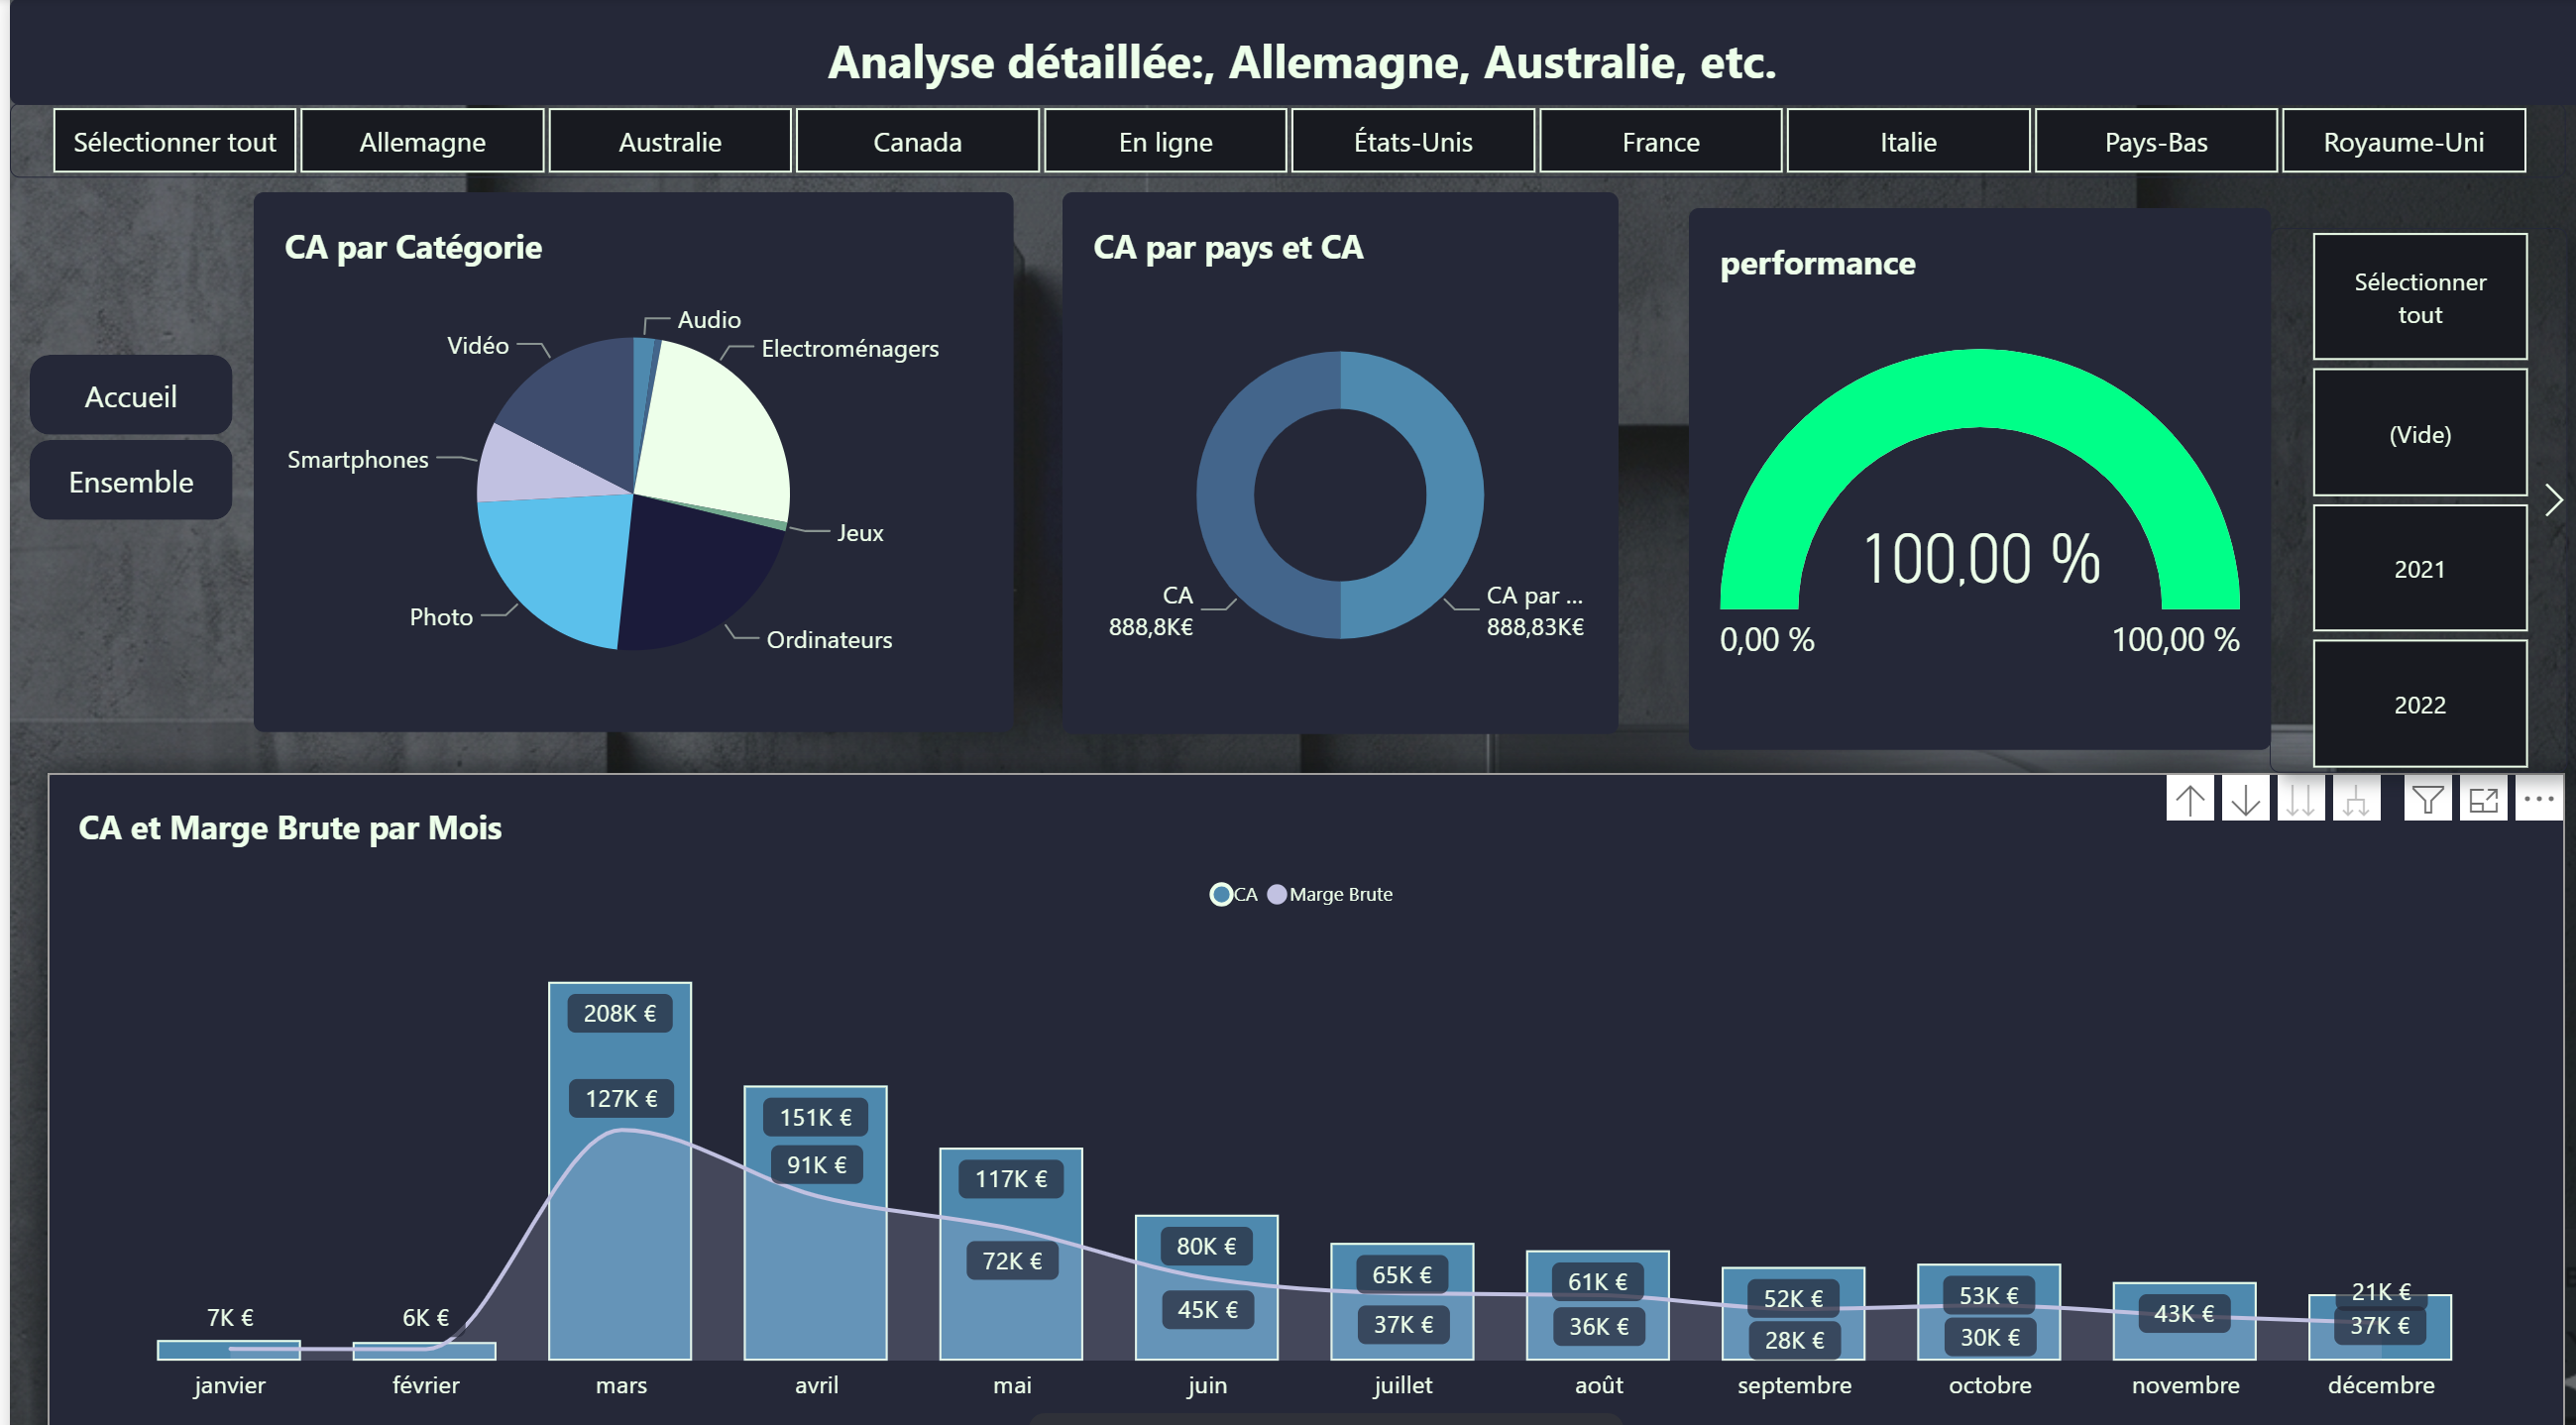

The page's visual inventory and layout, read from the dashboard file:
{"tool":"powerbi","page":{"name":"Détail des ventes","canvas":[1280,720],"ordinal":1},"visuals":[{"type":"lineStackedColumnComboChart","fields":{"Category":["Calendrier.Date.Variation.Hiérarchie de dates.Année","Calendrier.Date.Variation.Hiérarchie de dates.Mois"],"Y":["Ventes.CA"],"Y2":["Ventes.Marge Brute"]},"box":[19,384.4,1247.3,331.6],"z":0},{"type":"pieChart","fields":{"Y":["Ventes.CA"],"Series":["Liste des Produits.Catégorie"]},"box":[121,96.6,376.3,267.5],"z":1000},{"type":"slicer","fields":{"Values":["Calendrier.Annee"]},"box":[1120.1,114.3,147.6,269.8],"z":2000},{"type":"actionButton","box":[9.8,176.8,100.6,39.7],"z":3000},{"type":"actionButton","box":[9.8,219,100.6,39.7],"z":4000},{"type":"slicer","title":"Details de ","fields":{"Values":["Ventes.Pays"]},"box":[0.2,52.4,1266.3,37.2],"z":5000},{"type":"donutChart","fields":{"Y":["Ventes.CA par pays","Ventes.CA"]},"box":[521.8,96.6,275.3,268.7],"z":6000},{"type":"gauge","fields":{"Y":["Ventes.performance"]},"box":[831.5,104.4,288.6,268.7],"z":7000},{"type":"shape","box":[0,0,1280,52.8],"z":8000}]}

Visuals, with their boxes on the page's 1280x720 design canvas (x1, y1, x2, y2). These are canvas units, not pixel positions in the 2576x1425 screenshot, which may show the page scaled, cropped or inside an application window:
lineStackedColumnComboChart - Calendrier.Date.Variation.Hiérarchie de dates.Année x Calendrier.Date.Variation.Hiérarchie de dates.Mois: Rect(19, 384, 1266, 716)
pieChart - Ventes.CA x Liste des Produits.Catégorie: Rect(121, 97, 497, 364)
slicer - Calendrier.Annee: Rect(1120, 114, 1268, 384)
actionButton: Rect(10, 177, 110, 216)
actionButton: Rect(10, 219, 110, 259)
"Details de " slicer: Rect(0, 52, 1266, 90)
donutChart - Ventes.CA par pays x Ventes.CA: Rect(522, 97, 797, 365)
gauge - Ventes.performance: Rect(832, 104, 1120, 373)
shape: Rect(0, 0, 1280, 53)
